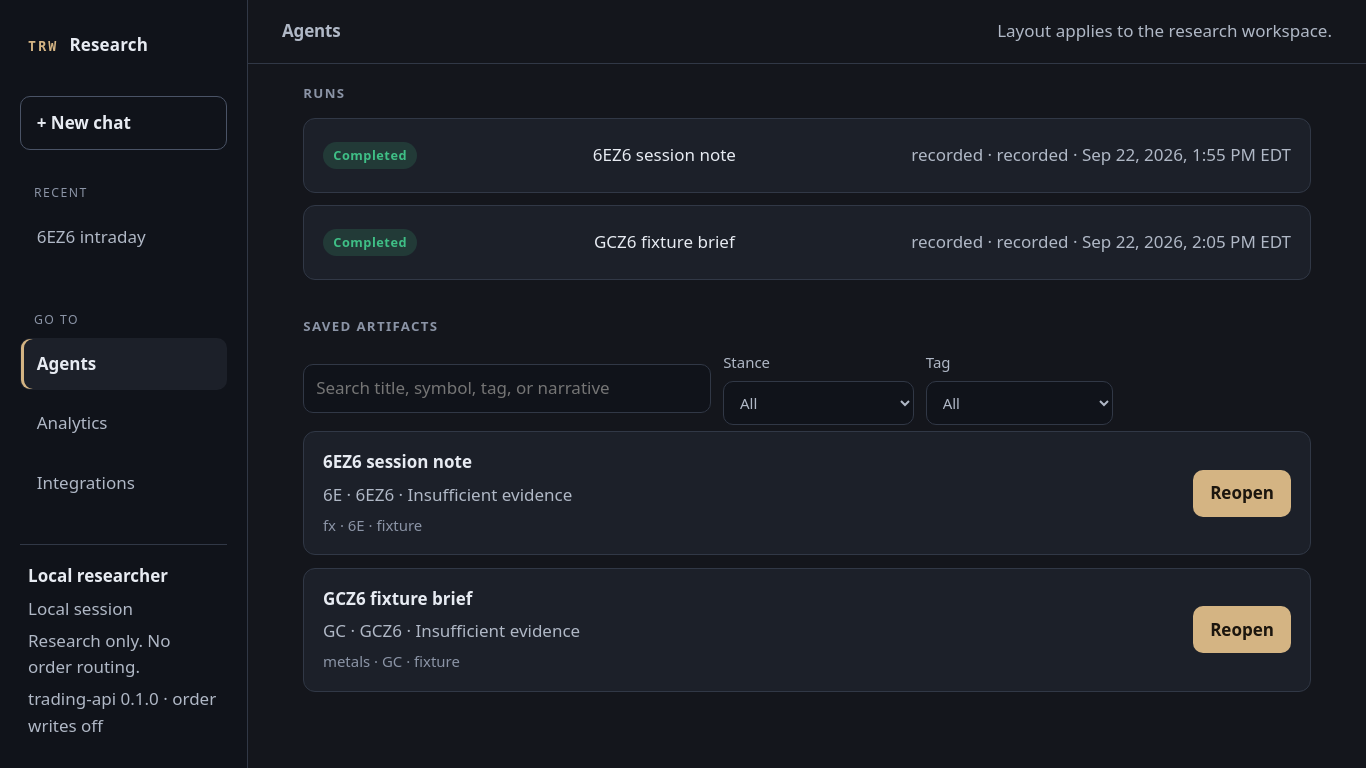
Scenario: conversation and artifact › opens the artifact attached to a recent conversation
(page scrolled)
Click the button "Reopen" in the row of "· GCZ6".
click(1242, 630)  # box [1193,606,1291,653]
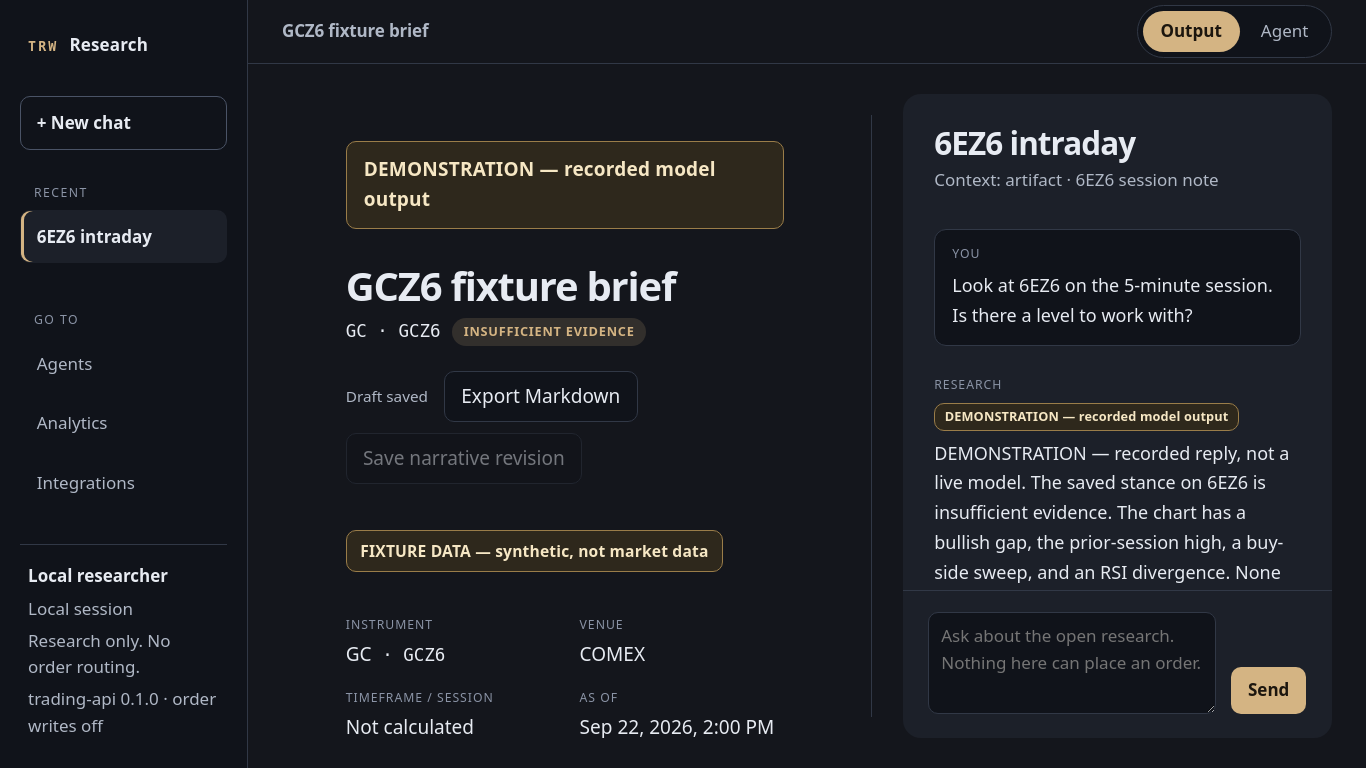
Expected: the heading "GCZ6 fixture brief" is shown, [346,263,675,309]
Expected: the heading "6EZ6 intraday" is shown, [934,121,1135,164]
Click the button "6EZ6 intraday".
click(124, 237)  # box [20,210,227,263]
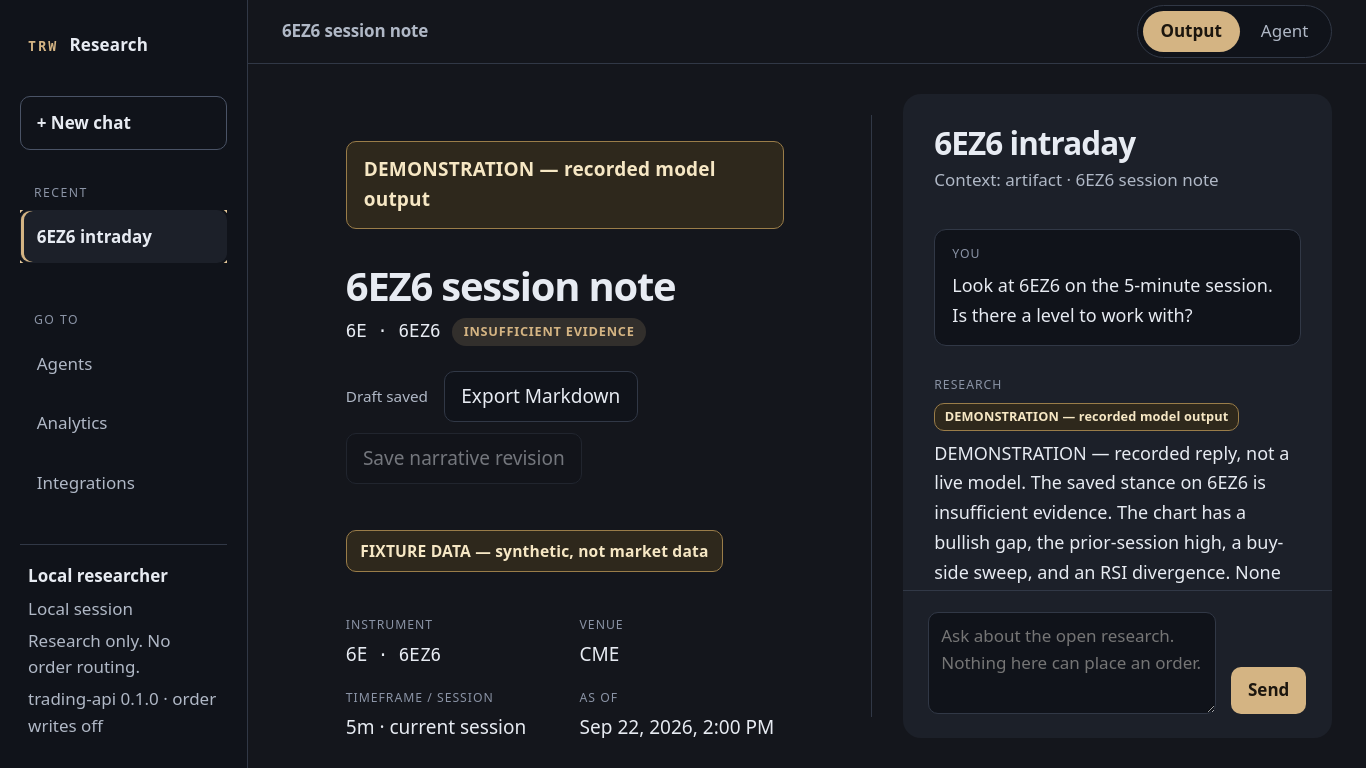
Expected: the heading "6EZ6 intraday" is shown, [934,121,1135,164]
Expected: the heading "6EZ6 session note" is shown, [346,263,676,309]
Expected: the text "GCZ6 fixture brief" is gone
